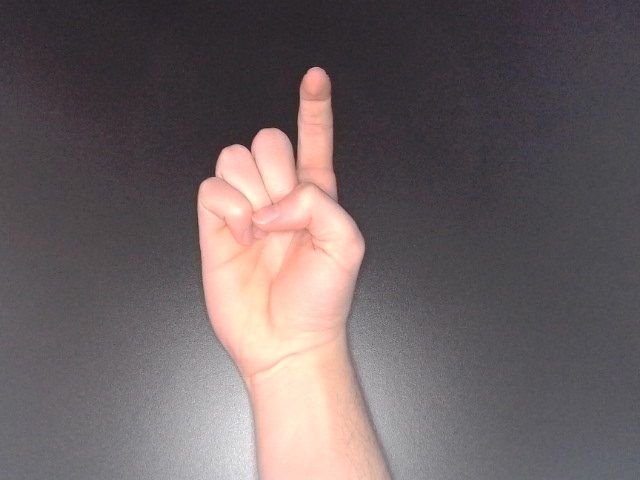x: (186, 62, 370, 383)
